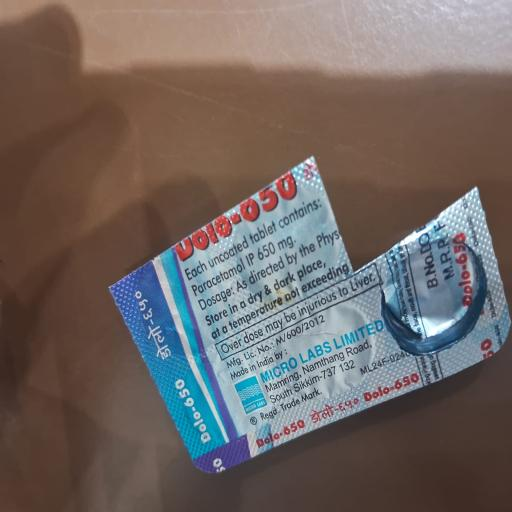dolo-650: (168, 215, 314, 262)
medicine: (115, 136, 502, 422), (358, 362, 431, 413), (444, 216, 476, 328)
